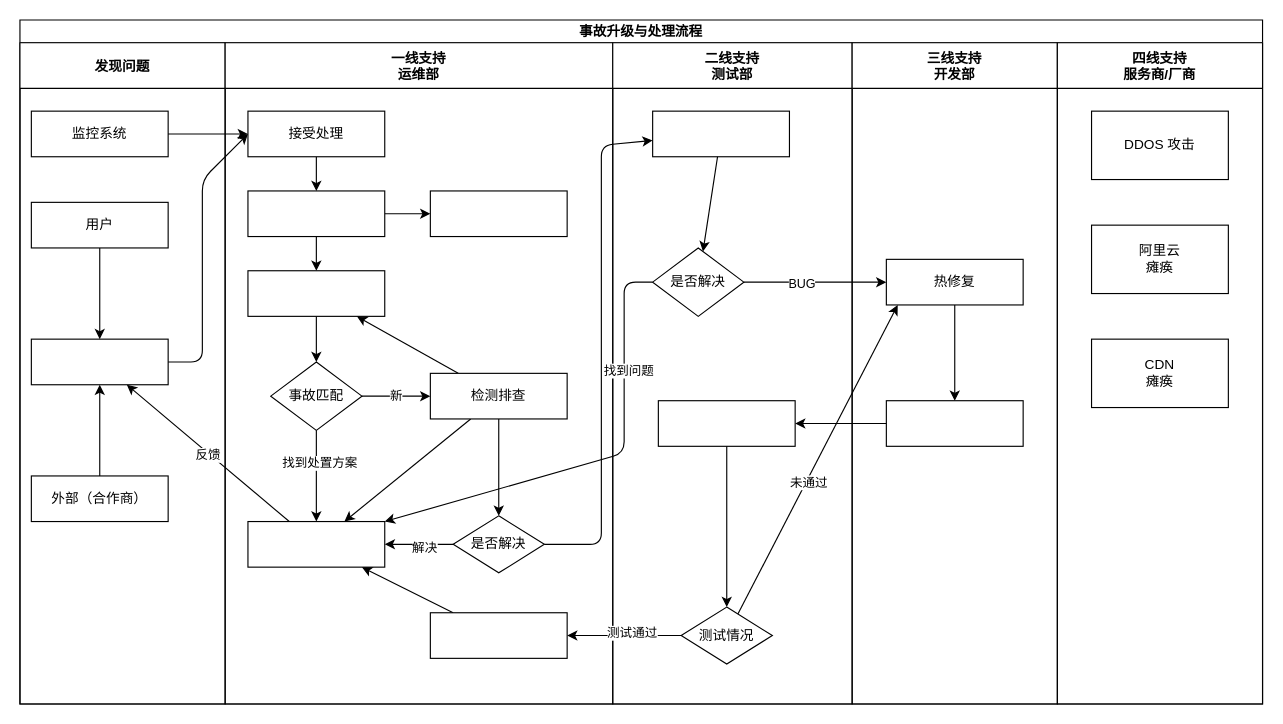
The diagram is 1283 pixels wide and 724 high, and some of its shapes have lost their labels. The centre of each missing label's shape, as x and y in pixels:
内部/对接（公司）: the point at 99,361
升级: the point at 498,635
处理解决: the point at 316,543
每周运维例会 故障复盘: the point at 498,213
测试: the point at 726,423
测试协助: the point at 720,133
紧急发布: the point at 954,423
记录故障: the point at 316,213
运维手册 历史处置方案: the point at 316,293
